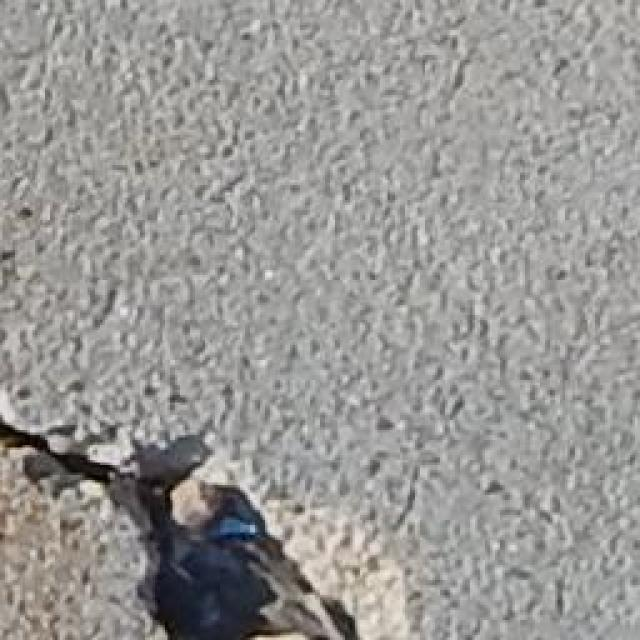concrete-crack: (0, 398, 374, 640)
